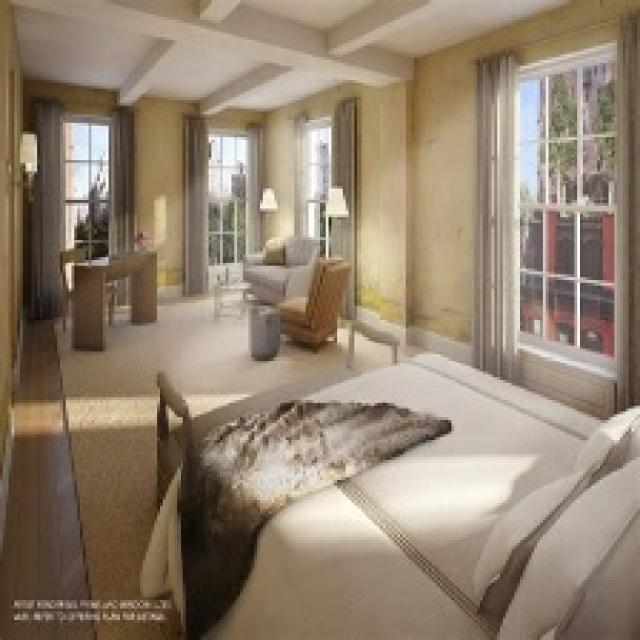Bed: (140, 352, 637, 637)
